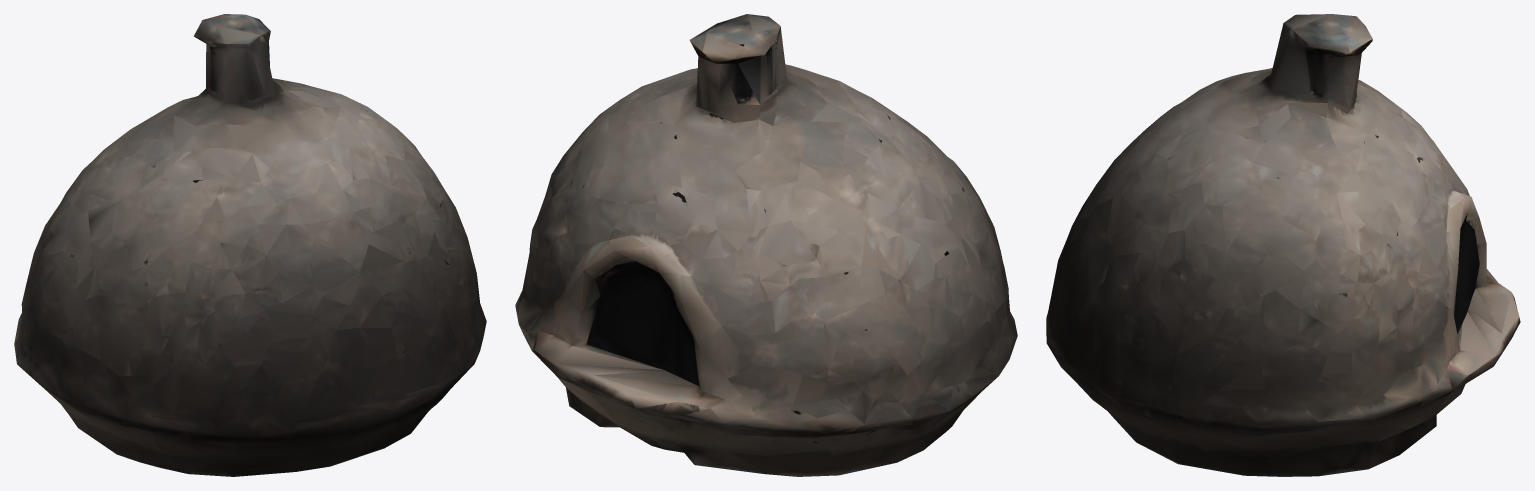
Rendered from 12_bakery.fbx.
The picture shows the model from 3 angles, left to right: view 1: azimuth 30°, elevation 25°; view 2: azimuth 150°, elevation 25°; view 3: azimuth 270°, elevation 25°; orthographic projection. The views are drawn at different scales.
Parts seen in each view (by area): view 1: 12_bakery; view 2: 12_bakery; view 3: 12_bakery.
Boxes of the visible parts, bbox=[...] form: 12_bakery: bbox=[14, 14, 486, 476]; 12_bakery: bbox=[515, 14, 1017, 476]; 12_bakery: bbox=[1046, 14, 1520, 476].
Size of the model in its own units: 120 by 103 by 115.
Materials: 1 (1 with a texture image).
